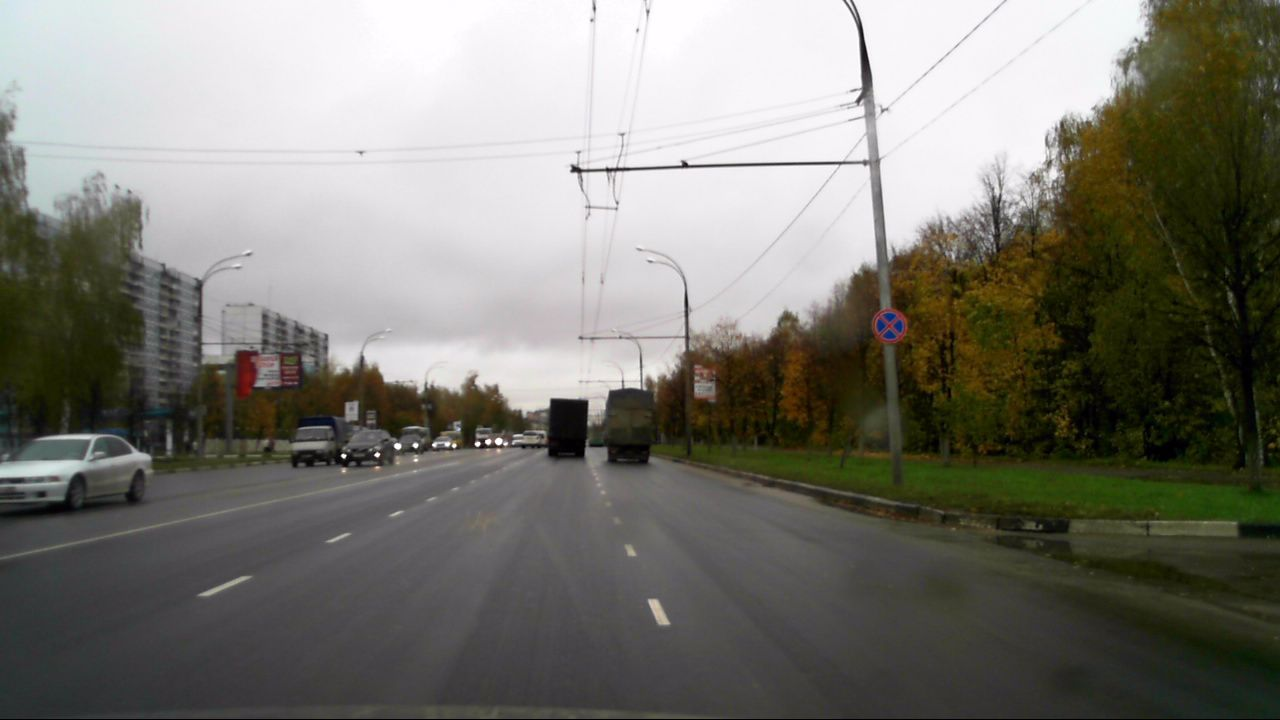No Parking: (872, 306, 907, 344)
